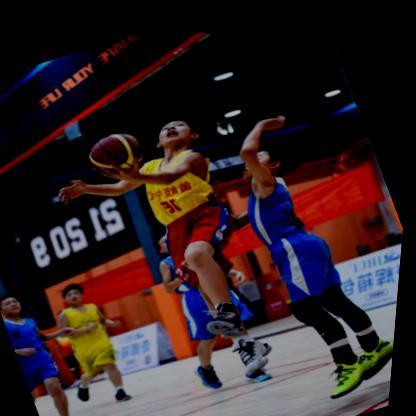basketball: (83, 115, 154, 183)
